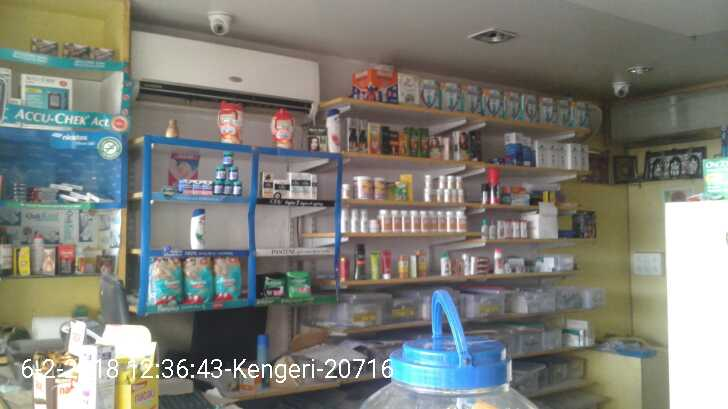beauty: (183, 203, 210, 250), (287, 175, 318, 202), (328, 112, 345, 157), (272, 176, 293, 199), (258, 171, 273, 196)
pharmacy: (177, 251, 211, 305), (210, 259, 245, 305), (150, 255, 179, 307), (285, 271, 310, 302), (257, 273, 285, 300), (177, 176, 208, 192), (212, 181, 242, 194), (219, 147, 237, 166), (225, 162, 242, 182), (211, 164, 227, 180)
